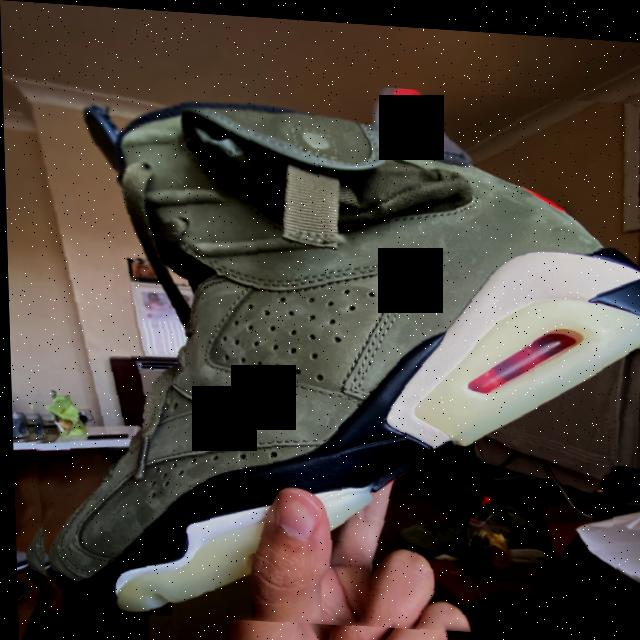shoe: (7, 62, 640, 640)
